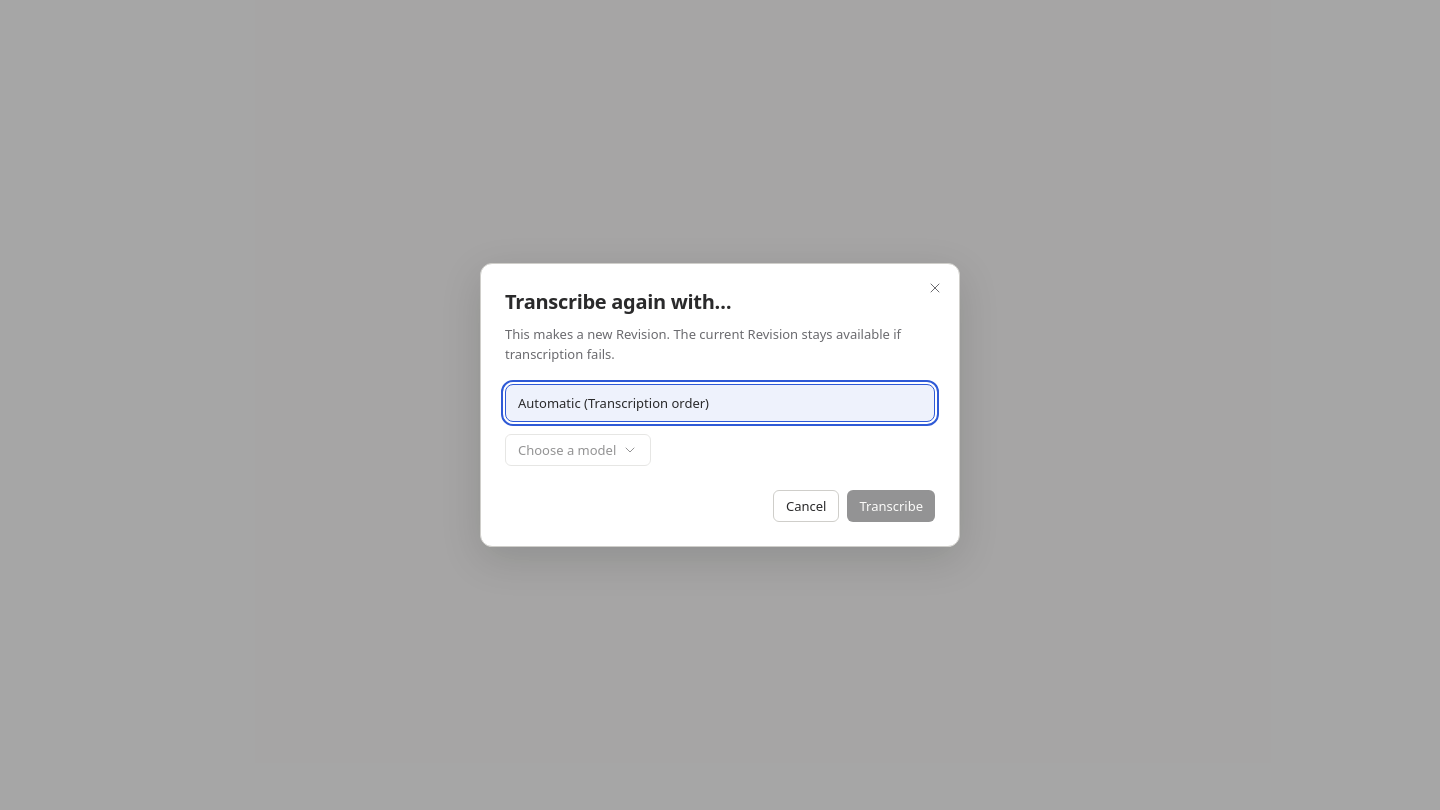
Test: lists disconnected Managed transcription as unavailable
The width and height of the screenshot is (1440, 810).
Step 1. Press the mouse on the button with aria-label "Choose Speech-to-text model" → (578, 450), box [505,434,651,466]
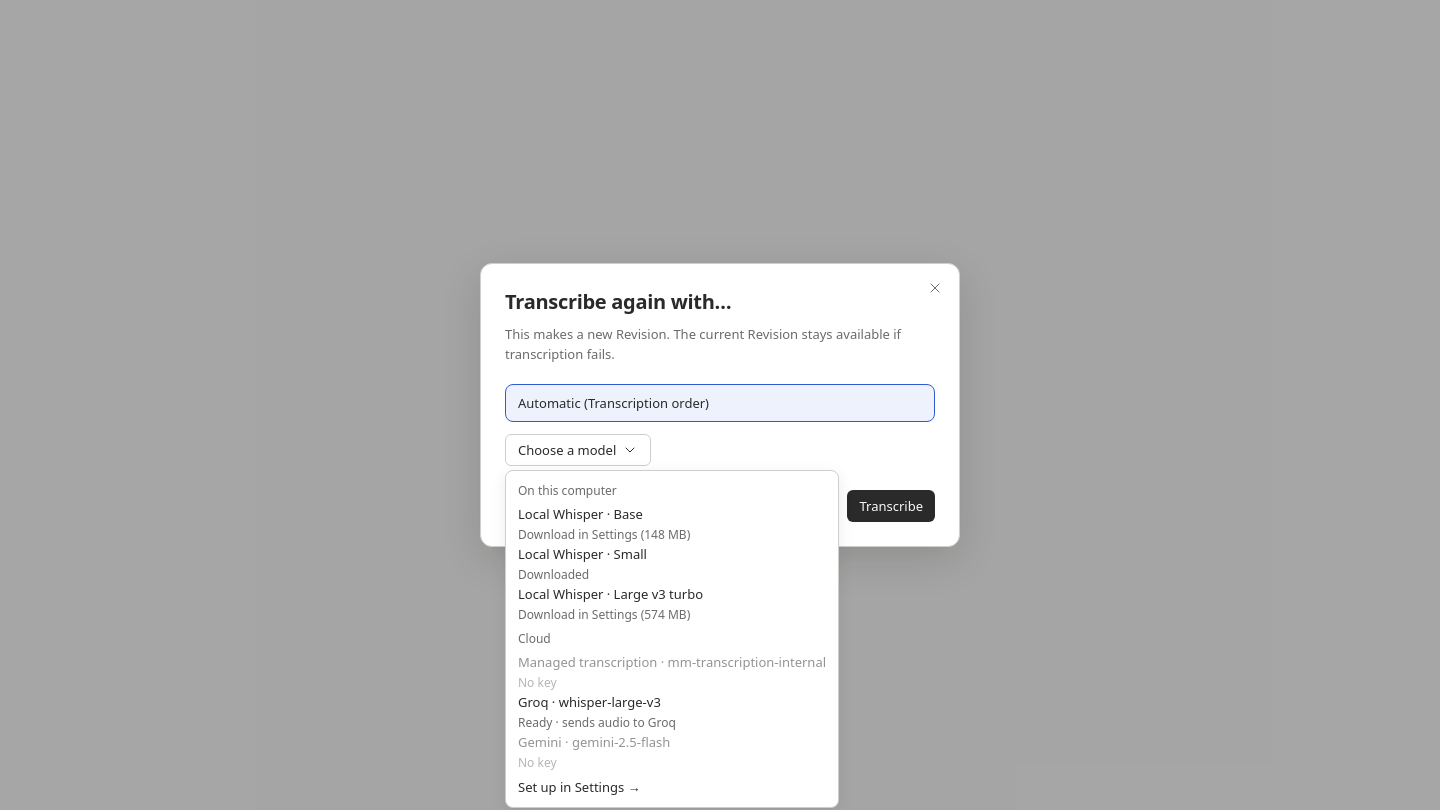
Check: the 1st text "No key" is shown, box [518,675,557,691]
